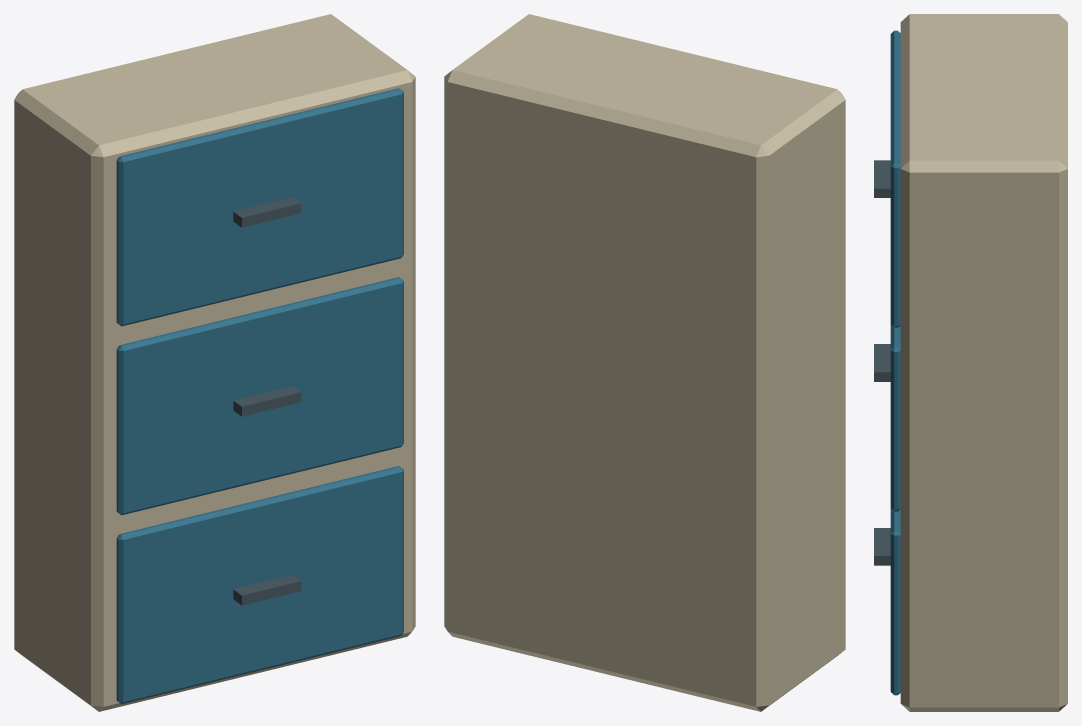
The model's file is parcel_lockers.glb.
The picture shows the model from 3 angles, left to right: view 1: azimuth 30°, elevation 25°; view 2: azimuth 150°, elevation 25°; view 3: azimuth 270°, elevation 25°; orthographic projection. The views are drawn at different scales.
Visible parts, largest first — view 1: parcel_lockers; view 2: parcel_lockers; view 3: parcel_lockers.
Part boxes in pixels (x1,y1,x2,y2): parcel_lockers: [14, 14, 415, 711]; parcel_lockers: [444, 14, 845, 711]; parcel_lockers: [874, 14, 1067, 711].
Bounding box in the file's own units: 1.2 × 2 × 0.6375.
